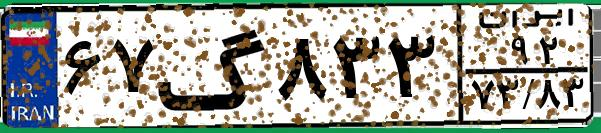2: (537, 27, 568, 80)
3: (385, 28, 445, 110), (330, 28, 385, 110), (560, 70, 590, 125), (495, 70, 520, 125)
6: (57, 26, 110, 100)
7: (110, 28, 156, 98), (470, 70, 495, 125)
8: (270, 28, 330, 110), (535, 70, 560, 125)
9: (508, 27, 537, 80)
گ: (156, 12, 270, 120)
